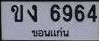txt02: (10, 4, 24, 23)
txt05: (26, 4, 39, 24)
